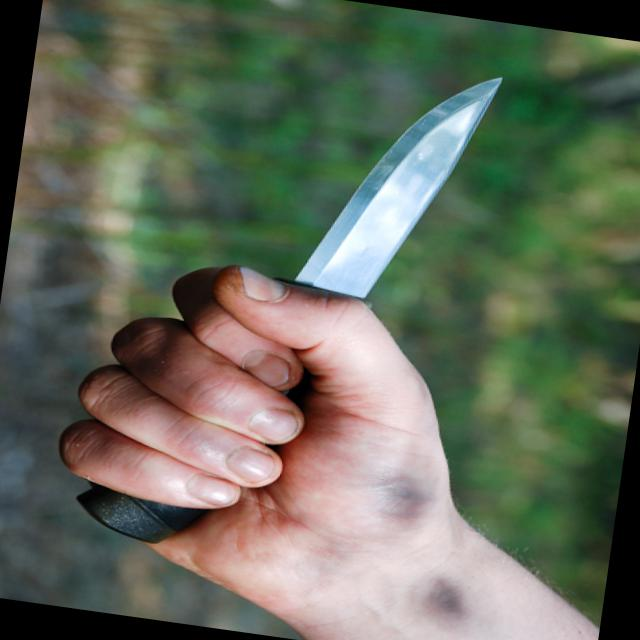knife: (54, 19, 520, 593)
